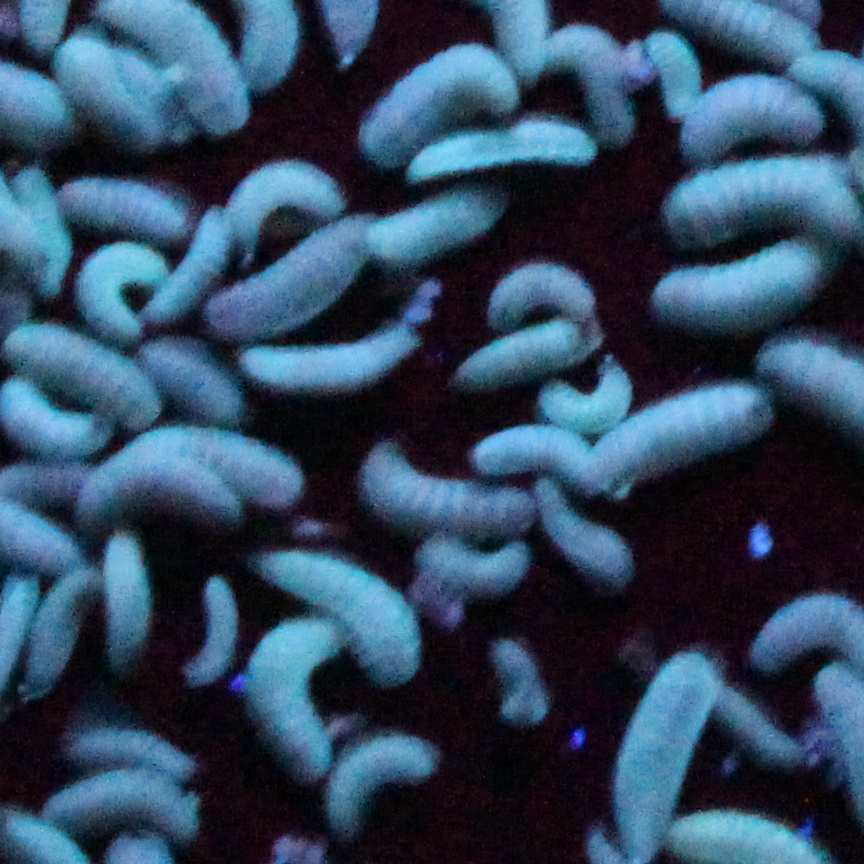larve: (609, 642, 716, 847), (208, 219, 390, 334), (652, 248, 845, 330), (355, 449, 522, 541), (249, 617, 337, 791), (596, 391, 765, 481), (659, 164, 855, 241), (14, 328, 157, 431), (379, 53, 510, 151), (374, 182, 514, 270), (218, 163, 341, 260), (35, 771, 201, 842), (537, 486, 635, 596), (159, 429, 306, 501), (417, 120, 591, 180), (552, 31, 641, 138), (675, 87, 823, 149), (457, 326, 604, 386), (30, 570, 103, 686), (56, 179, 190, 242), (334, 739, 431, 825), (478, 258, 593, 326), (159, 213, 234, 316), (142, 340, 246, 413), (237, 348, 417, 390), (67, 718, 199, 773), (76, 248, 155, 333), (104, 537, 151, 676), (422, 541, 536, 598), (179, 580, 245, 676), (467, 429, 585, 480), (92, 478, 234, 515), (535, 374, 635, 426), (645, 36, 706, 116)
